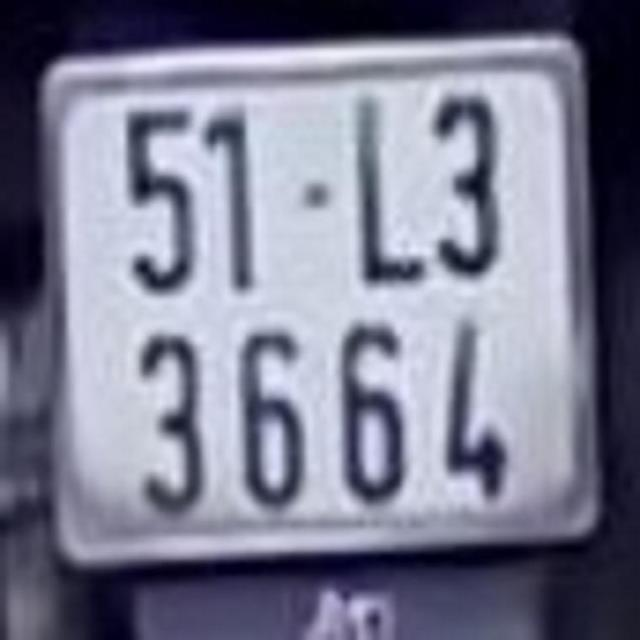1: (202, 90, 270, 293)
3: (428, 70, 504, 276), (135, 331, 209, 518)
4: (438, 294, 516, 508)
5: (114, 100, 200, 295)
6: (235, 313, 311, 513), (339, 303, 408, 504)
L: (344, 80, 426, 285)
